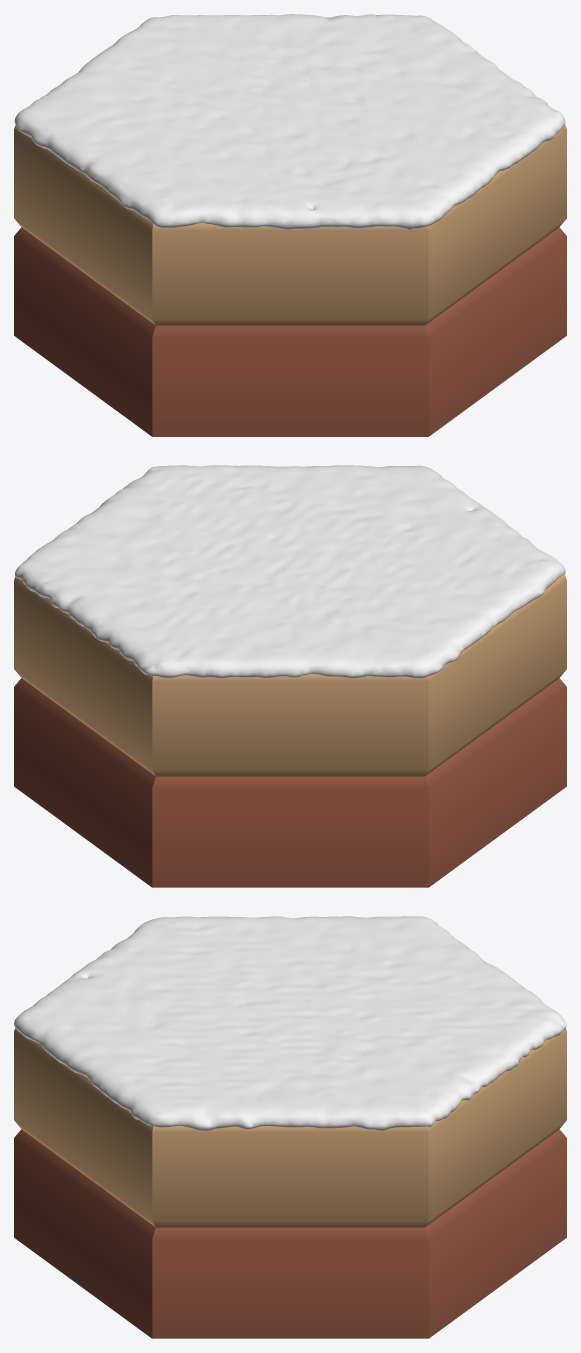
Rendered from hex_sand_detail.fbx.
The picture shows the model from 3 angles, top to bottom: view 1: azimuth 30°, elevation 25°; view 2: azimuth 150°, elevation 25°; view 3: azimuth 270°, elevation 25°; orthographic projection.
Visible parts, largest first — view 1: SnowBall.001, hex_sand_detail, hex_sand_detail.001; view 2: SnowBall.001, hex_sand_detail, hex_sand_detail.001; view 3: SnowBall.001, hex_sand_detail, hex_sand_detail.001.
Part boxes in pixels (x1=…): SnowBall.001: x1=14, y1=14, x2=565, y2=230; hex_sand_detail: x1=14, y1=227, x2=566, y2=436; hex_sand_detail.001: x1=14, y1=124, x2=566, y2=325; SnowBall.001: x1=14, y1=465, x2=565, y2=678; hex_sand_detail: x1=14, y1=678, x2=566, y2=887; hex_sand_detail.001: x1=14, y1=574, x2=566, y2=776; SnowBall.001: x1=14, y1=916, x2=566, y2=1131; hex_sand_detail: x1=14, y1=1129, x2=566, y2=1338; hex_sand_detail.001: x1=14, y1=1028, x2=566, y2=1227.
Bounding box in the file's own units: 204 × 103 × 231.
